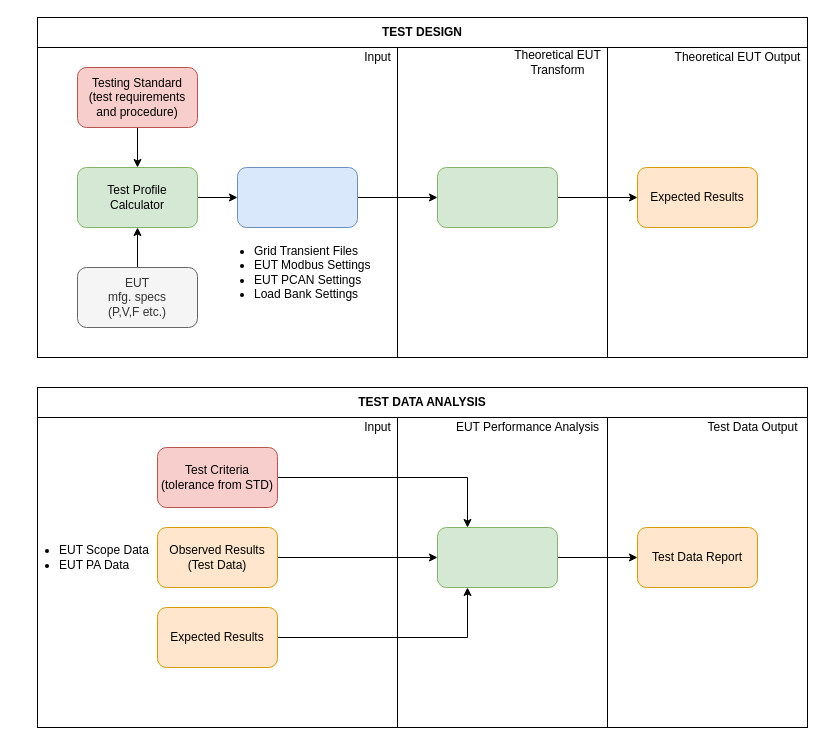
Some shapes in this 825 by 745 pixel diagram are drawn without their labels. The centre of each missing label's shape, as x and y in pixels:
"Pass/Fail Calculator" belongs at pixel 497 557.
"Test Profile (grid conditions, EUT settings)" belongs at pixel 297 197.
"Theoretical EUT Transform Calculator" belongs at pixel 497 197.
